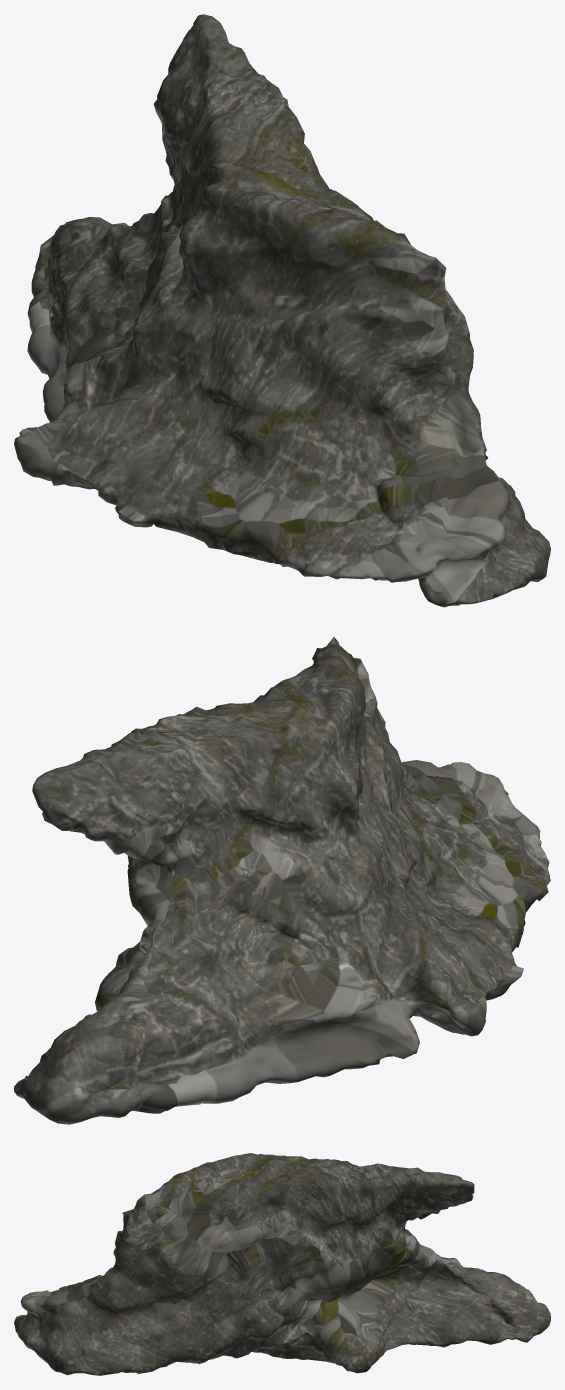
File: SM_Rock_D.fbx
3 renders of one model, top to bottom at view 1: azimuth 30°, elevation 25°; view 2: azimuth 150°, elevation 25°; view 3: azimuth 270°, elevation 25°, orthographic. The views are drawn at different scales.
Visible parts, largest first — view 1: SM_Rock_D_LOD0; view 2: SM_Rock_D_LOD0; view 3: SM_Rock_D_LOD0.
Part boxes in pixels (x1,y1,x2,y2): SM_Rock_D_LOD0: (14, 14, 550, 607); SM_Rock_D_LOD0: (14, 636, 550, 1124); SM_Rock_D_LOD0: (14, 1153, 550, 1375).
Size of the model in its own units: 6794 by 15010 by 6049.
